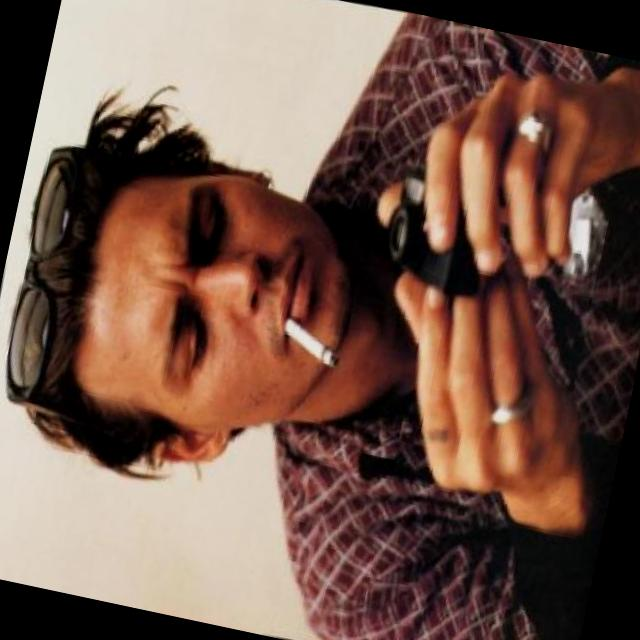cigarette: (276, 306, 348, 369)
